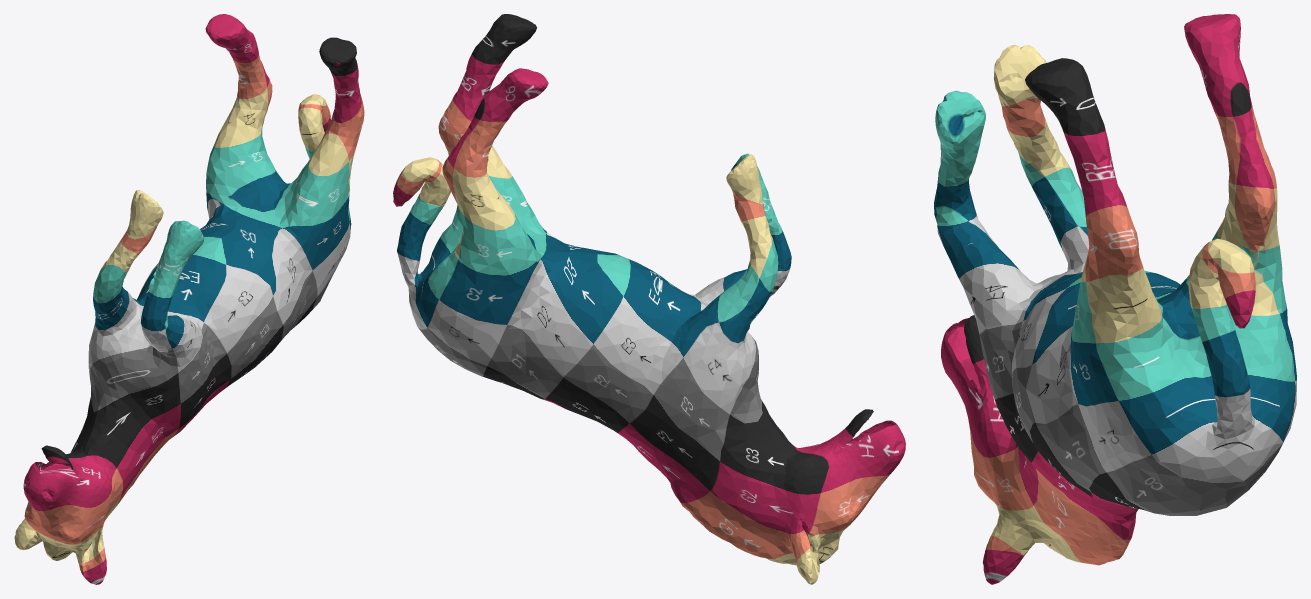
Rendered from cougar_01-horse_09.obj.
3 renders of one model, left to right at view 1: azimuth 30°, elevation 25°; view 2: azimuth 150°, elevation 25°; view 3: azimuth 270°, elevation 25°, orthographic. The views are drawn at different scales.
Visible parts, largest first — view 1: cougar_01-horse_09_export; view 2: cougar_01-horse_09_export; view 3: cougar_01-horse_09_export.
Boxes of the visible parts, left/top/right/bottom form: cougar_01-horse_09_export: left=14, top=14, right=364, bottom=584; cougar_01-horse_09_export: left=393, top=14, right=905, bottom=584; cougar_01-horse_09_export: left=934, top=14, right=1296, bottom=584.
Size of the model in its own units: 0.8115 by 0.9212 by 0.4211.
